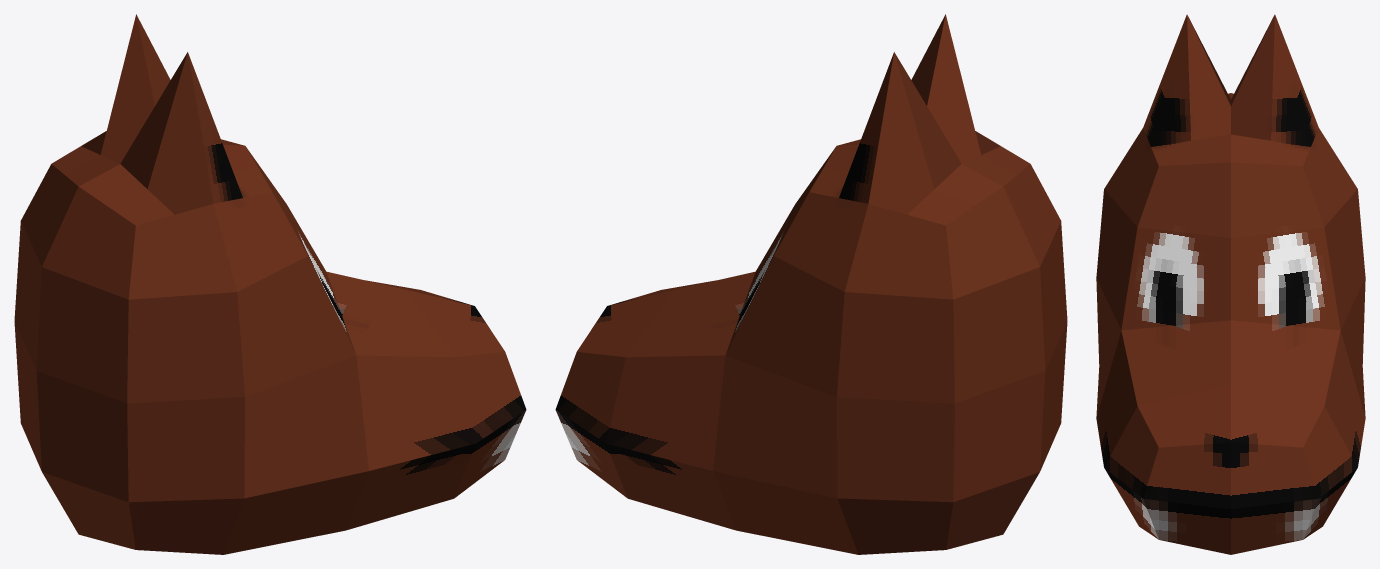
File: doghead.glb
The picture shows the model from 3 angles, left to right: view 1: azimuth 30°, elevation 25°; view 2: azimuth 150°, elevation 25°; view 3: azimuth 270°, elevation 25°; orthographic projection. The views are drawn at different scales.
Parts seen in each view (by area): view 1: Cube; view 2: Cube; view 3: Cube.
Part boxes in pixels (x1=…): Cube: x1=14, y1=14, x2=526, y2=554; Cube: x1=555, y1=14, x2=1067, y2=554; Cube: x1=1096, y1=14, x2=1365, y2=554.
Size of the model in its own units: 0.5608 by 0.5949 by 0.3306.
Materials: 1 (1 with a texture image).
